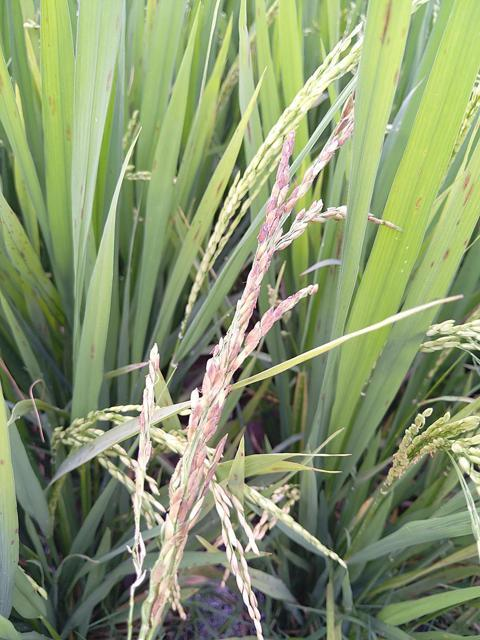Panicle Blight: (151, 98, 354, 624), (222, 532, 264, 639), (138, 371, 153, 491), (250, 512, 277, 547), (367, 213, 403, 233)
